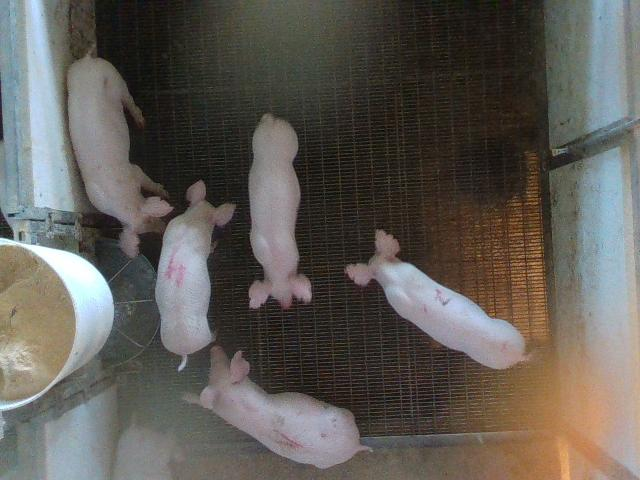pig-1: (185, 346, 368, 468)
pig-4: (155, 180, 235, 371)
